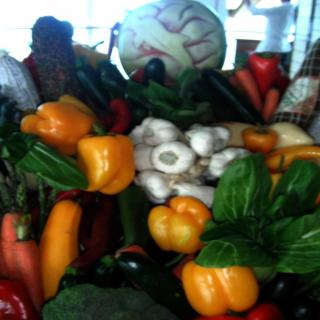Bell pepper: (182, 262, 258, 316), (77, 124, 133, 196), (20, 102, 94, 155), (148, 197, 214, 255), (242, 123, 280, 152)
